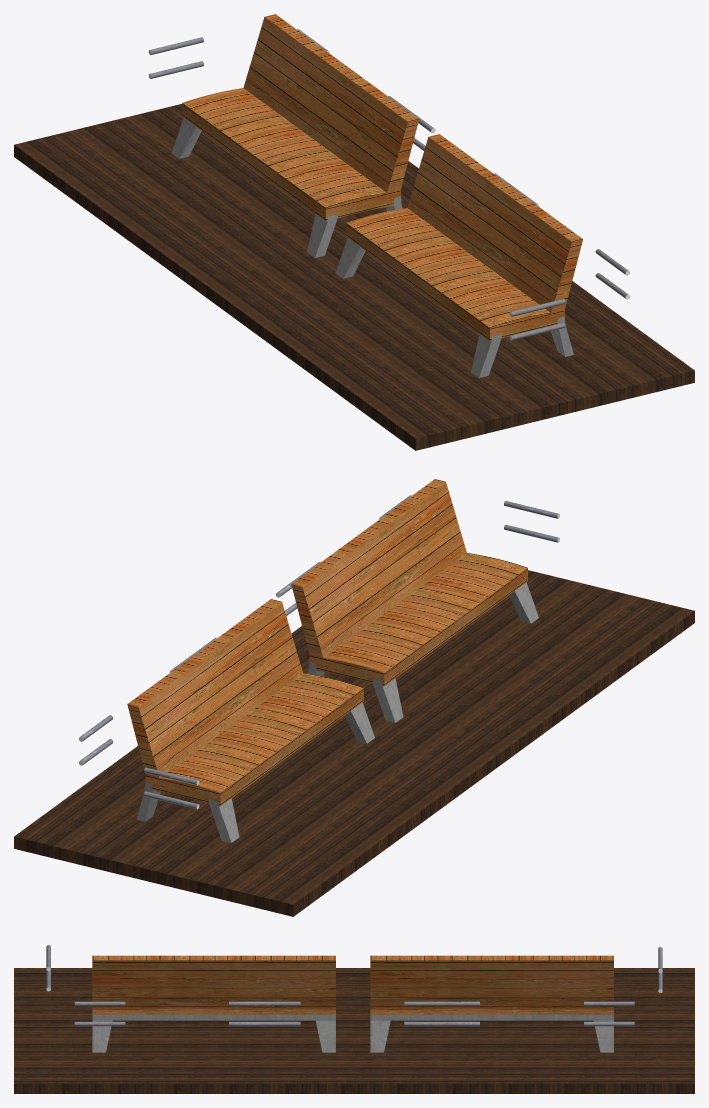
File: Parklet_Low_LOD.obj
3 views of the same model, one above another, from view 1: azimuth 30°, elevation 25°; view 2: azimuth 150°, elevation 25°; view 3: azimuth 270°, elevation 25° (orthographic). The views are drawn at different scales.
Parts seen in each view (by area): view 1: Mesh206 Model, Mesh147 Bench2 Model, Mesh1 Bench1 Model; view 2: Mesh206 Model, Mesh1 Bench1 Model, Mesh147 Bench2 Model; view 3: Mesh206 Model, Mesh147 Bench2 Model, Mesh1 Bench1 Model, Mesh214 Model, Mesh212 Model, Mesh213 Model, Mesh211 Model, Mesh209 Model, Mesh215 Model, Mesh210 Model, Mesh216 Model.
Boxes of the visible parts, x1,y1,x2,y2 form: Mesh206 Model: (14, 104, 694, 450); Mesh147 Bench2 Model: (335, 134, 582, 377); Mesh1 Bench1 Model: (171, 14, 419, 257); Mesh206 Model: (14, 570, 694, 916); Mesh1 Bench1 Model: (127, 599, 374, 842); Mesh147 Bench2 Model: (291, 479, 538, 722); Mesh206 Model: (14, 968, 694, 1093); Mesh147 Bench2 Model: (92, 955, 335, 1052); Mesh1 Bench1 Model: (370, 955, 613, 1052); Mesh214 Model: (404, 1021, 479, 1026); Mesh212 Model: (229, 1021, 300, 1026); Mesh213 Model: (404, 1001, 479, 1005); Mesh211 Model: (229, 1001, 300, 1005); Mesh209 Model: (74, 1021, 125, 1026); Mesh215 Model: (584, 1021, 634, 1026); Mesh210 Model: (74, 1001, 125, 1005); Mesh216 Model: (584, 1001, 634, 1005).
Size of what is drawn, in the model's own units: 2.45 by 1.05 by 6.1.
5 materials, 4 textured.
